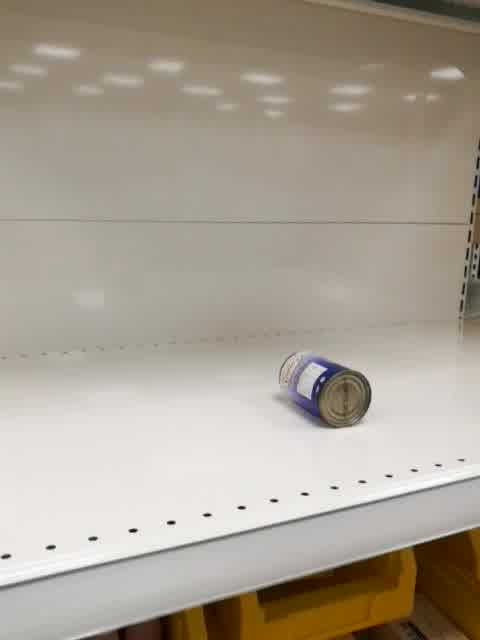sardine: (277, 351, 373, 429)
